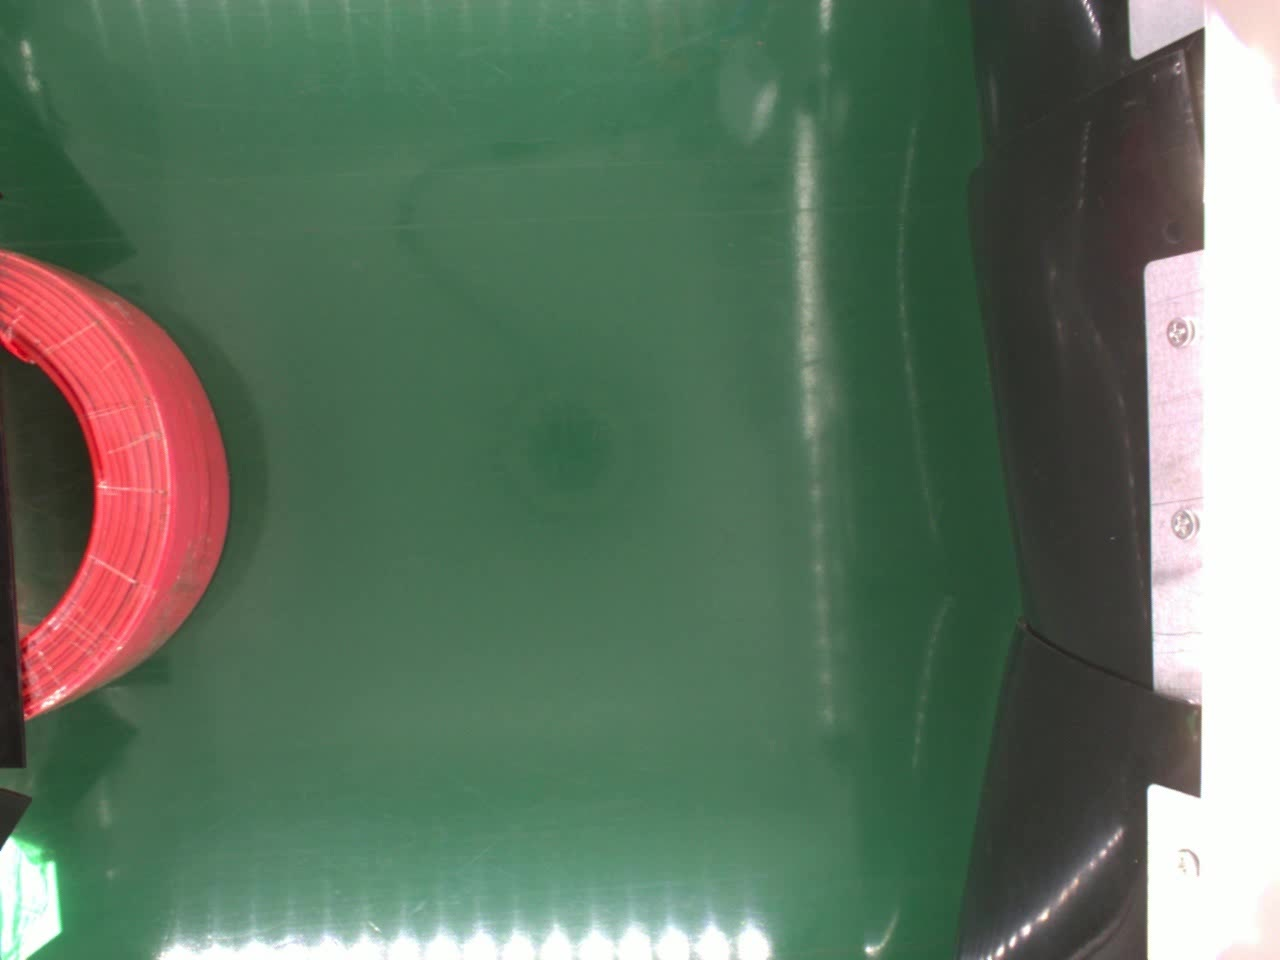red: (0, 246, 234, 718)
